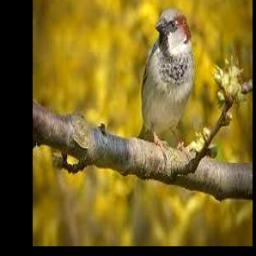Sparrow: (137, 8, 194, 150)
